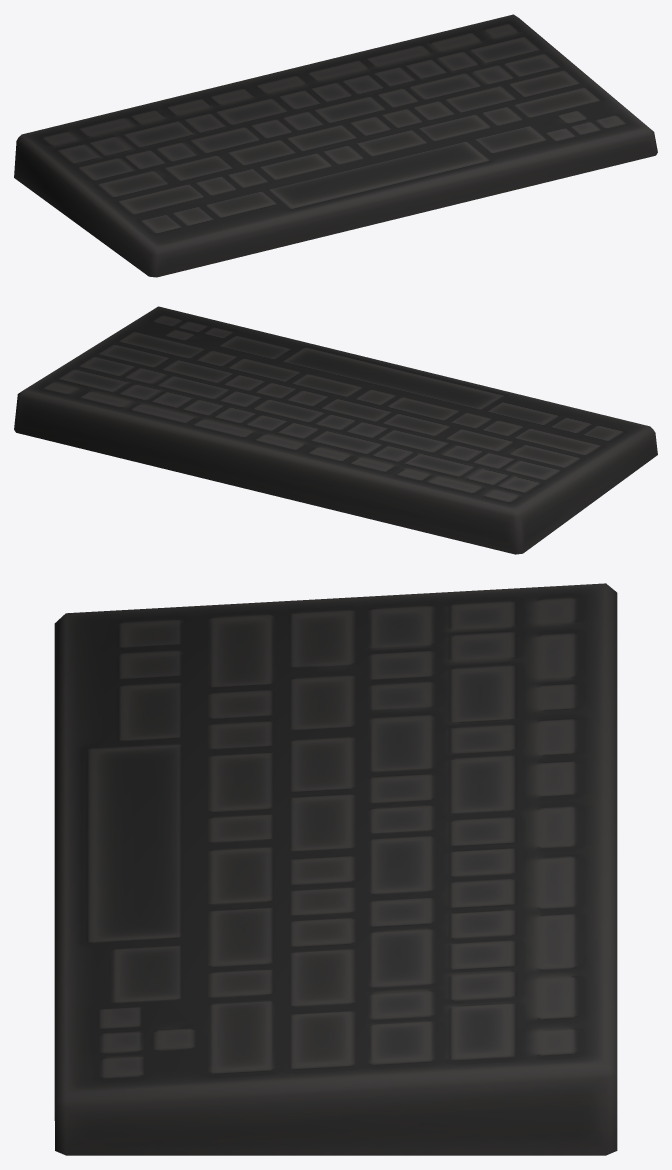
The model's file is OfficeComputer01_4.FBX.
3 views of the same model, one above another, from view 1: azimuth 30°, elevation 25°; view 2: azimuth 150°, elevation 25°; view 3: azimuth 270°, elevation 25° (orthographic). The views are drawn at different scales.
Visible parts, largest first — view 1: OfficeComputer01_4; view 2: OfficeComputer01_4; view 3: OfficeComputer01_4.
Boxes of the visible parts, left/top/right/bottom form: OfficeComputer01_4: left=14, top=14, right=657, bottom=277; OfficeComputer01_4: left=14, top=306, right=657, bottom=554; OfficeComputer01_4: left=54, top=583, right=617, bottom=1155.
Size of what is drawn, in the model's own units: 0.5894 by 0.0459 by 0.282.
